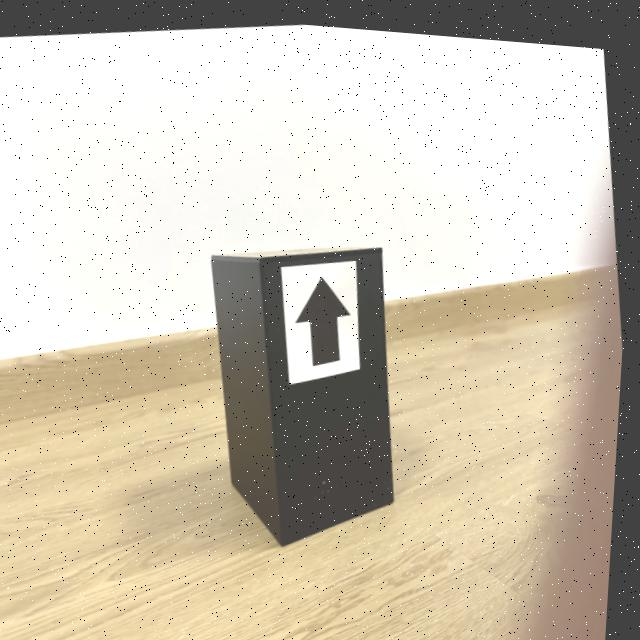UP: (299, 271, 353, 360)
